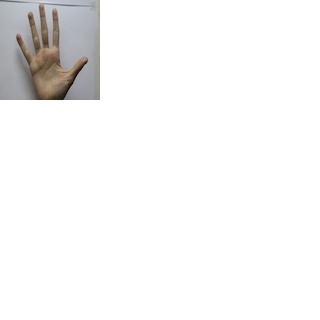paper: (9, 3, 90, 99)
